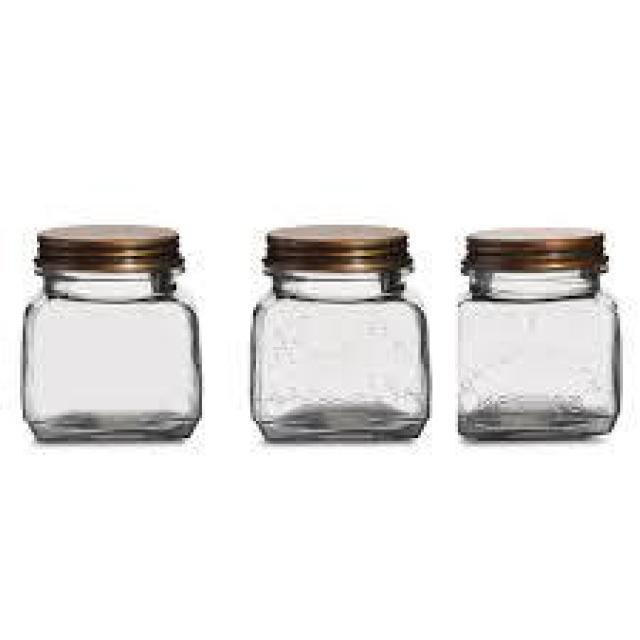Glass: (20, 222, 208, 446), (248, 221, 434, 446), (455, 224, 623, 444)
